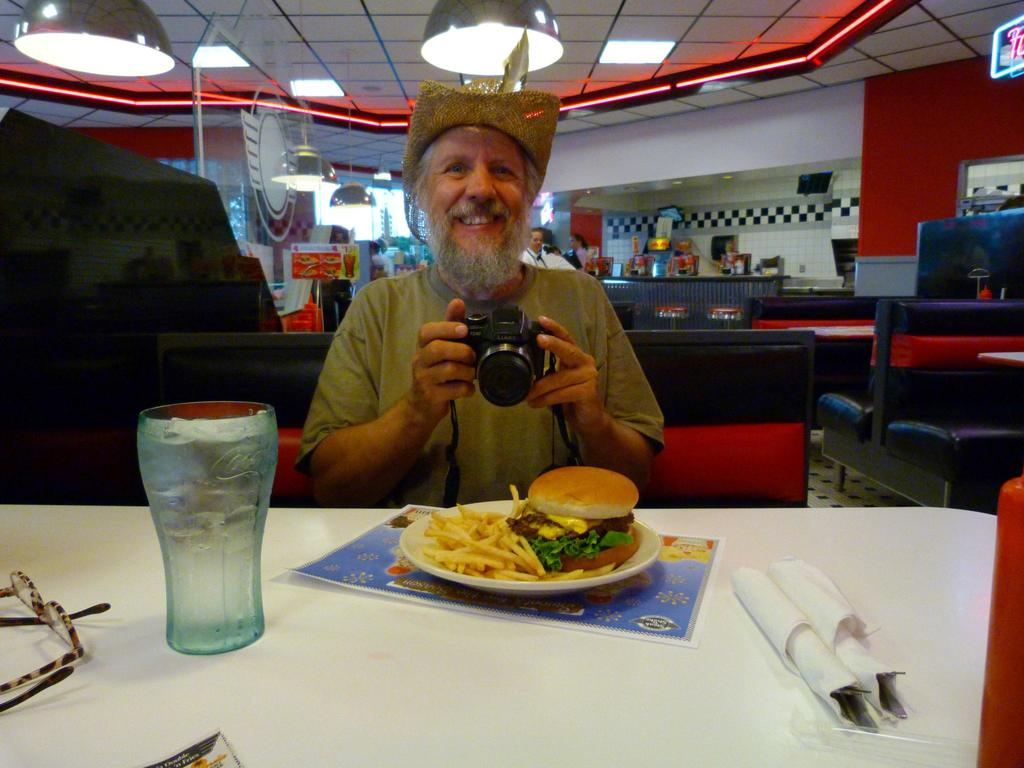Hamburger: (504, 465, 638, 572)
